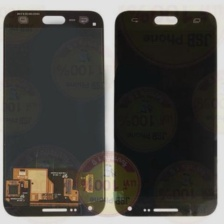phone: (111, 9, 219, 220), (0, 6, 106, 219)
